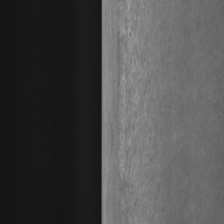silk_spot: (114, 17, 158, 224)
